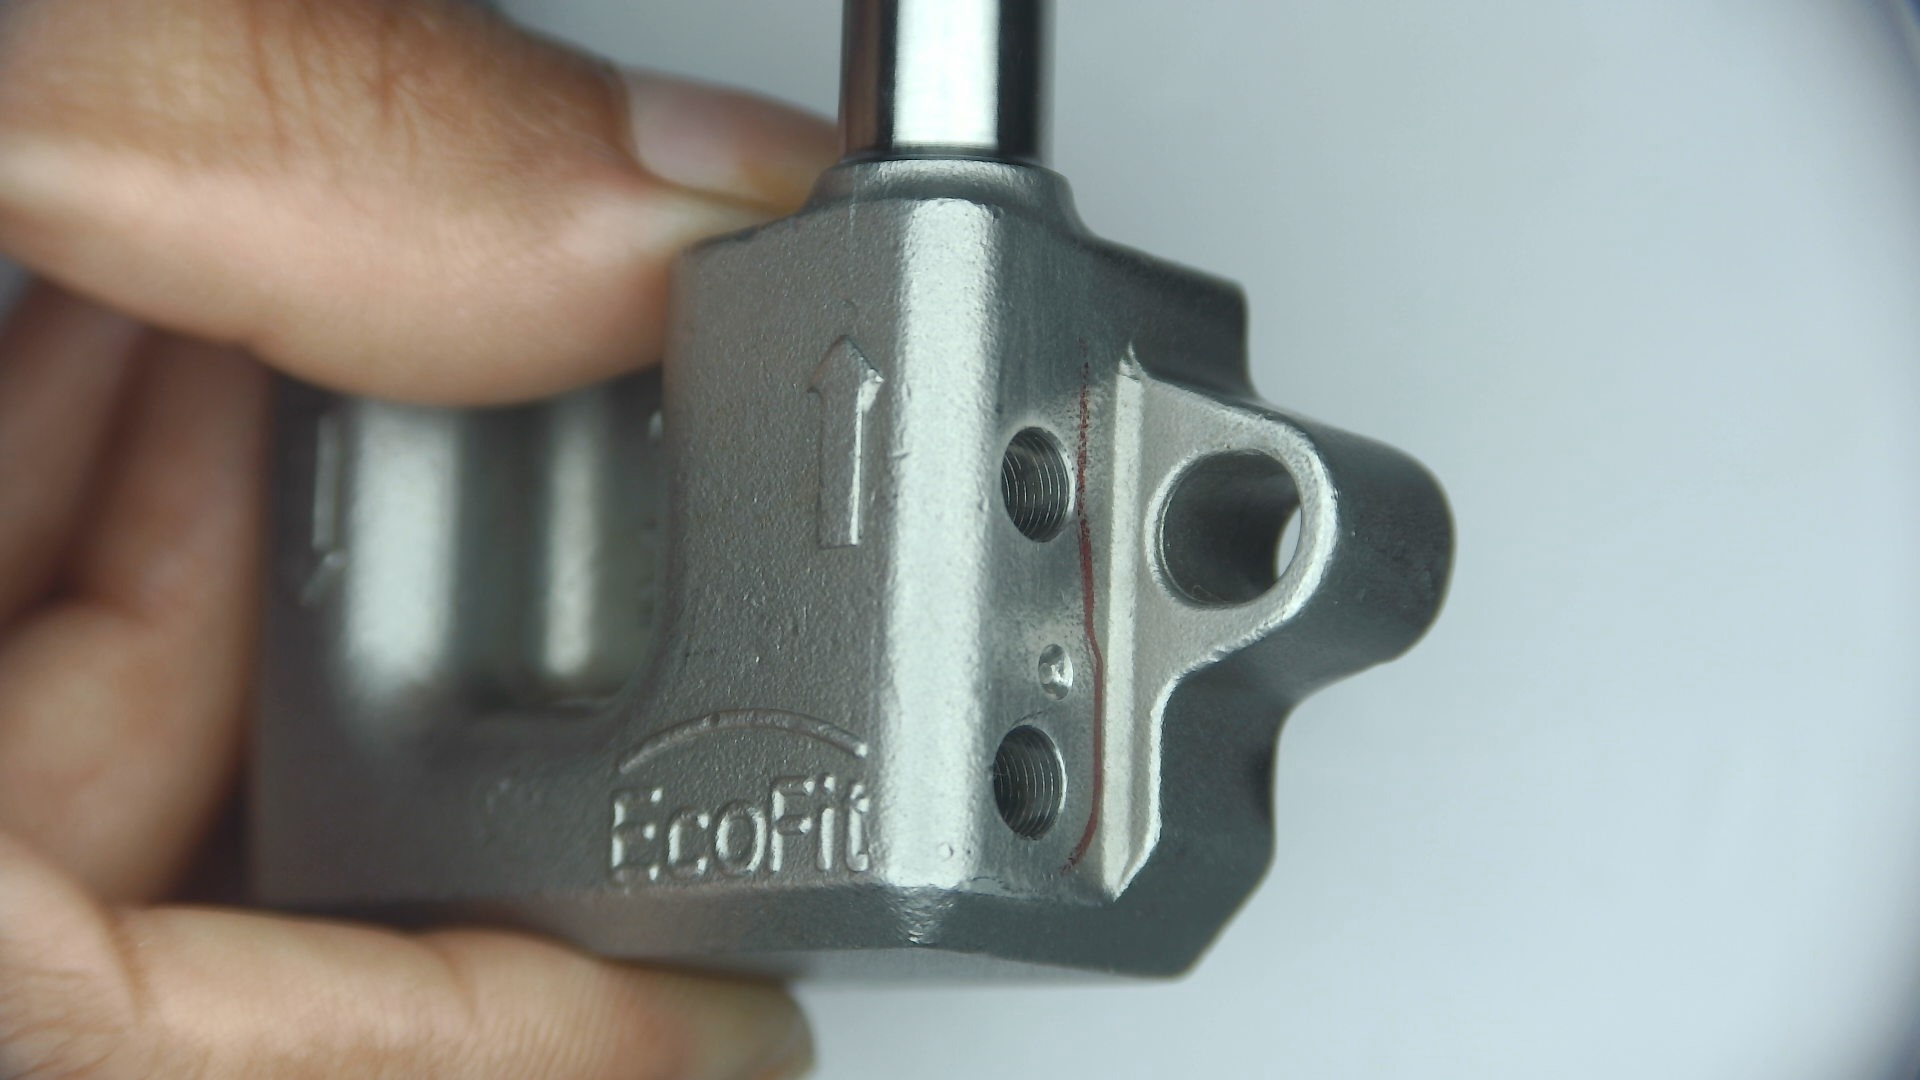thread_presence: (986, 419, 1083, 545), (986, 712, 1073, 833)
